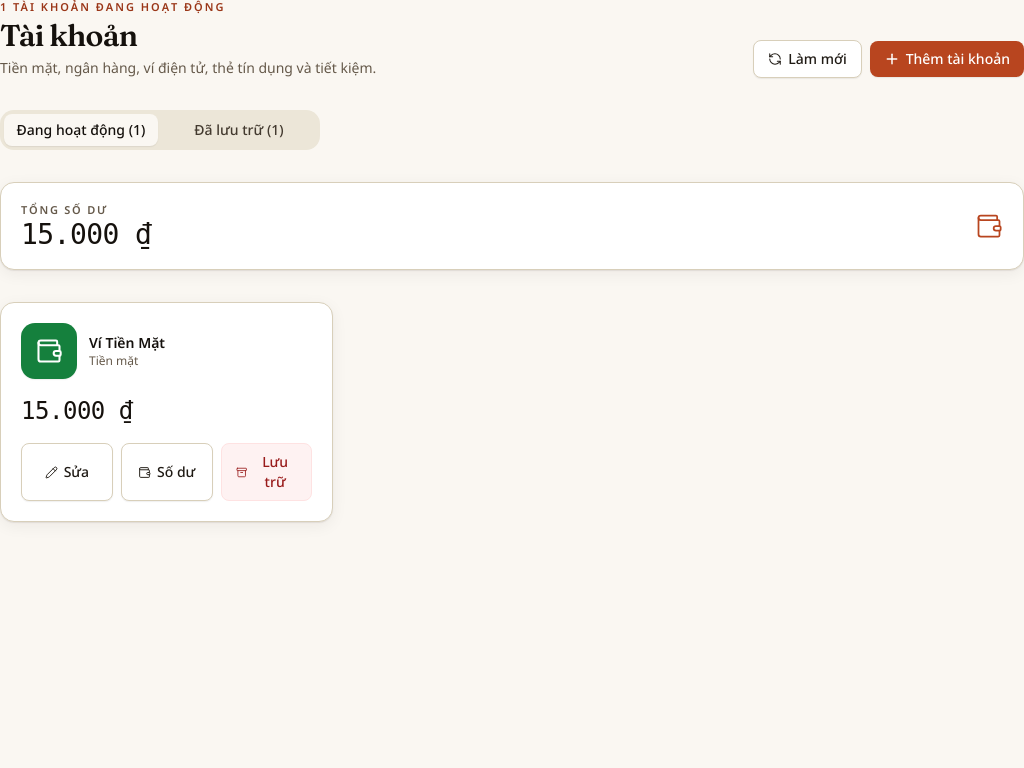
Test case: AccountsPage (F22: Archive, Restore, Financial Warnings, Dirty Guard) › shows financial balance warning when archiving an account with positive balance
The image size is (1024, 768).
Expected: the text "Ví Tiền Mặt" is shown, [89, 333, 165, 353]
Click the button "Lưu trữ" at {"x": 266, "y": 472}, box [221, 443, 312, 501]
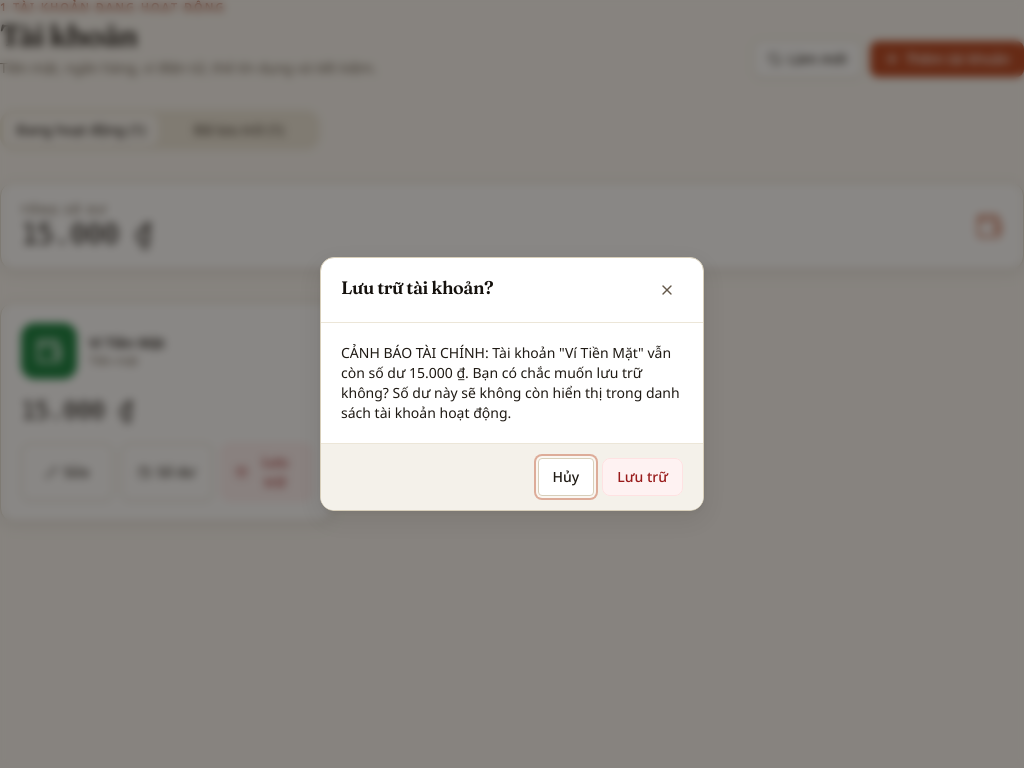
Now the heading "Lưu trữ tài khoản?" is shown, box [341, 274, 493, 302]
Now the text "CẢNH BÁO TÀI CHÍNH" is shown, box [341, 343, 680, 422]
